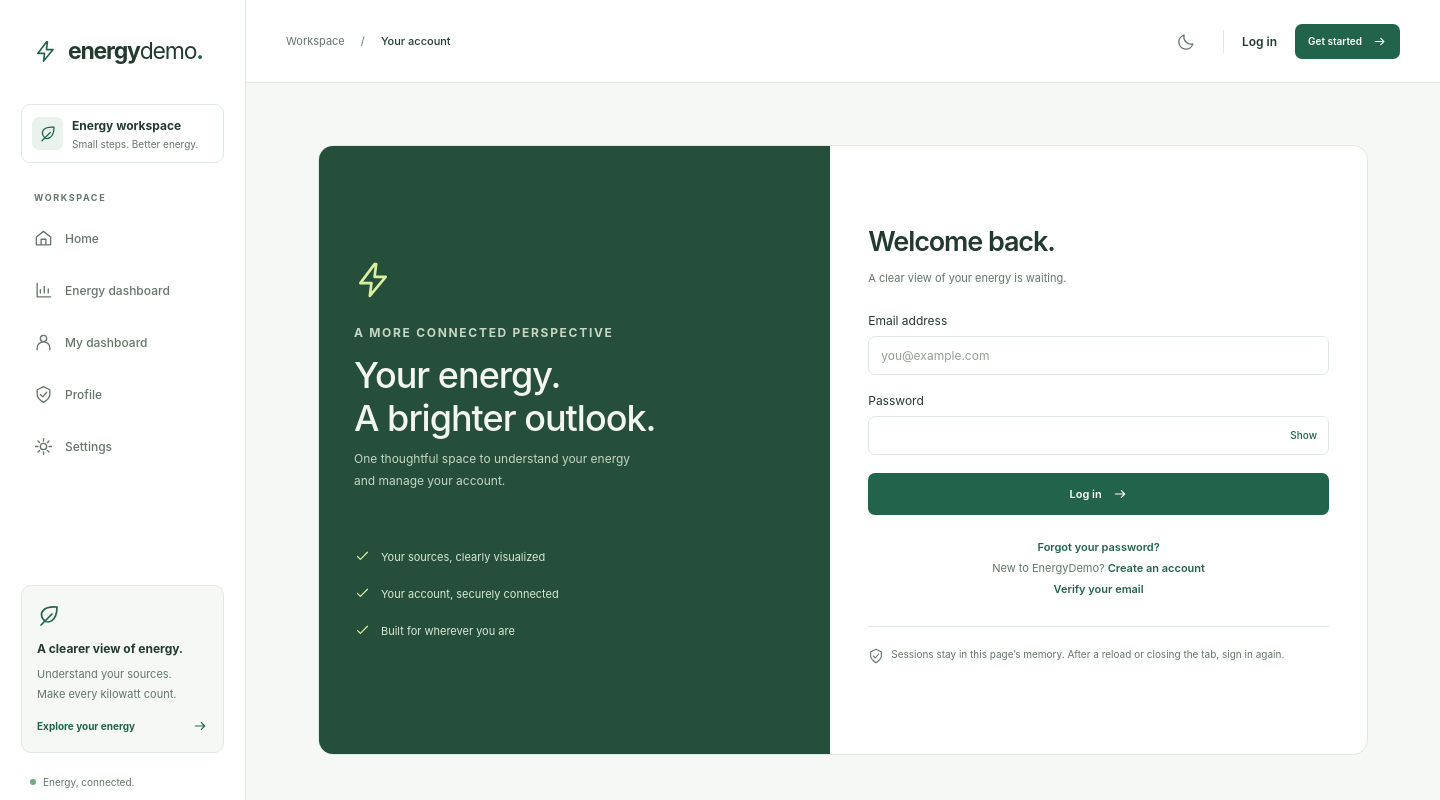
Cognito forms › handles authenticator challenges before granting access
Type "reader@example.invalid" into the field labelled "Email address".
click(1099, 356); type("reader@example.invalid")  # box [868,336,1329,375]
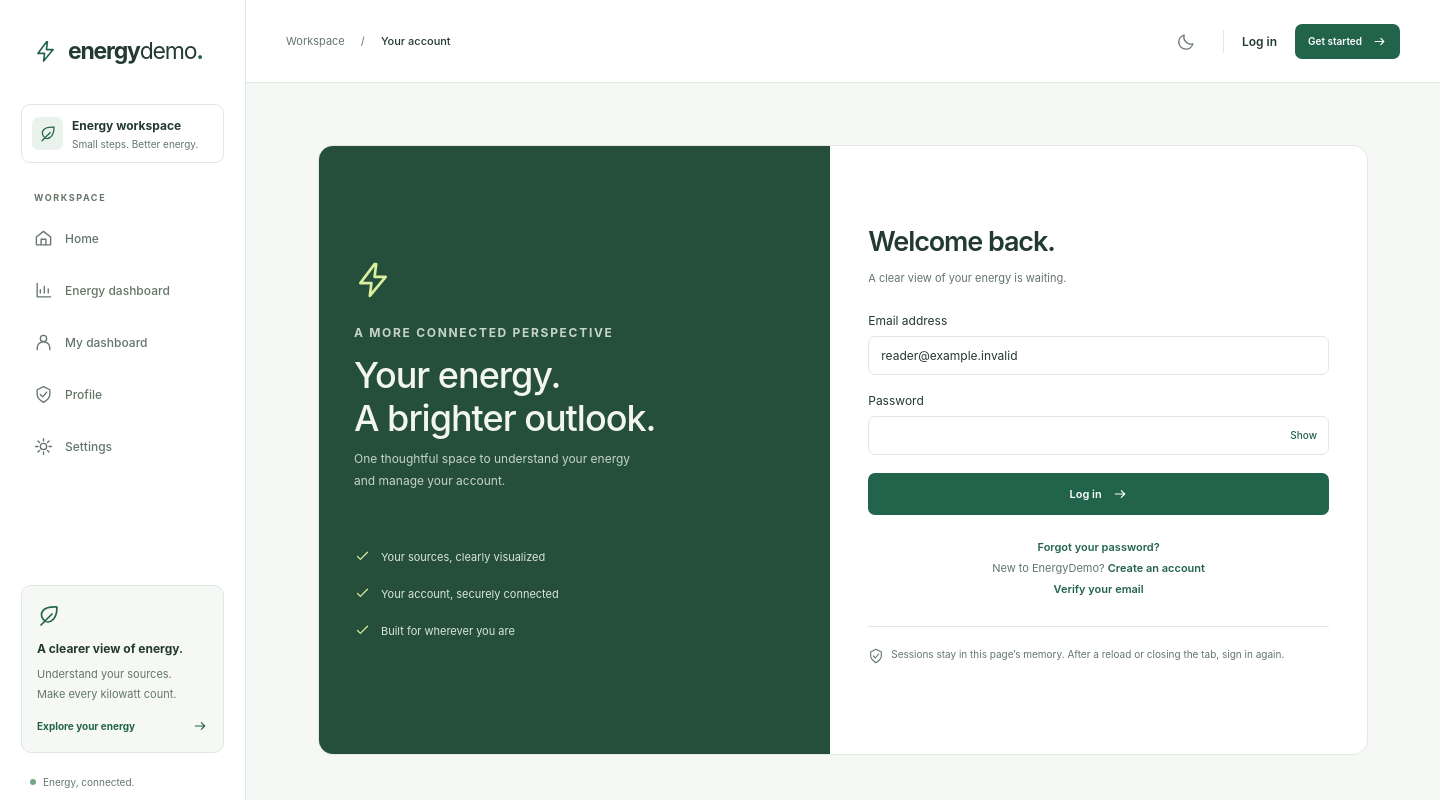
Type "Valid-Test-1234" into the password field labelled "Password".
click(1099, 436); type("Valid-Test-1234")  # box [868,416,1329,455]
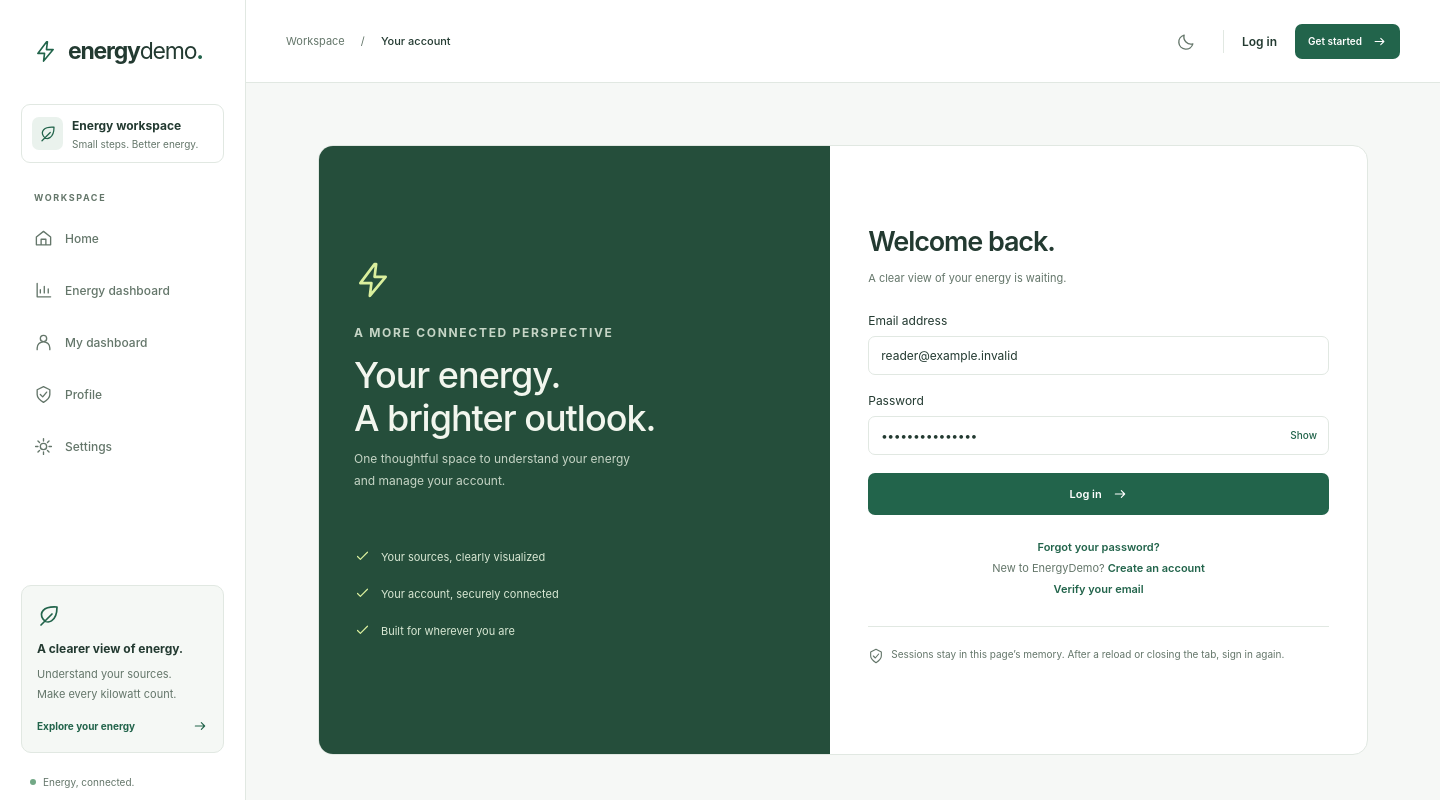
Click the button "Log in".
click(1099, 494)  # box [868,473,1329,515]
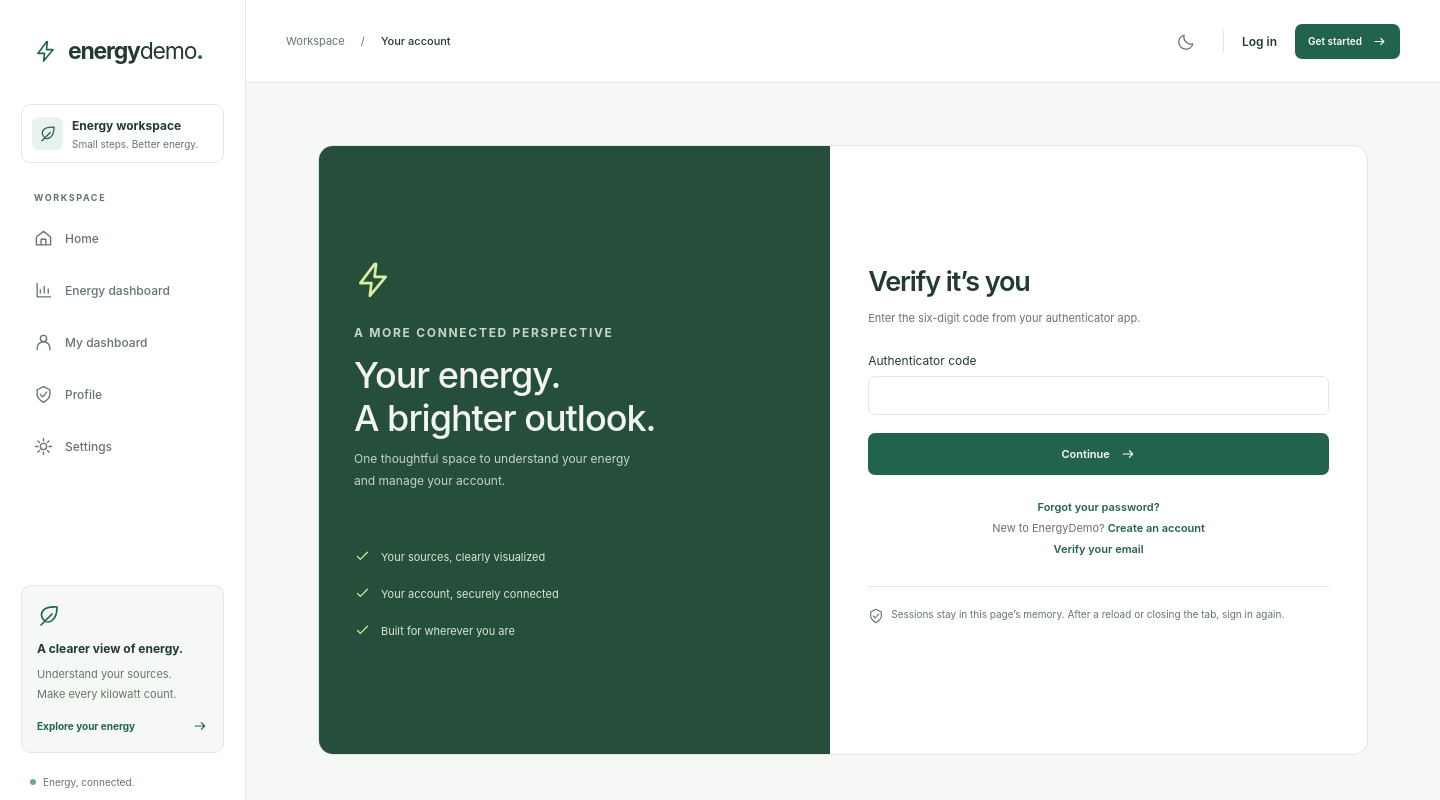
Expected: the field labelled "Authenticator code" is shown
Type "123456" into the field labelled "Authenticator code".
click(1099, 396); type("123456")  # box [868,376,1329,415]
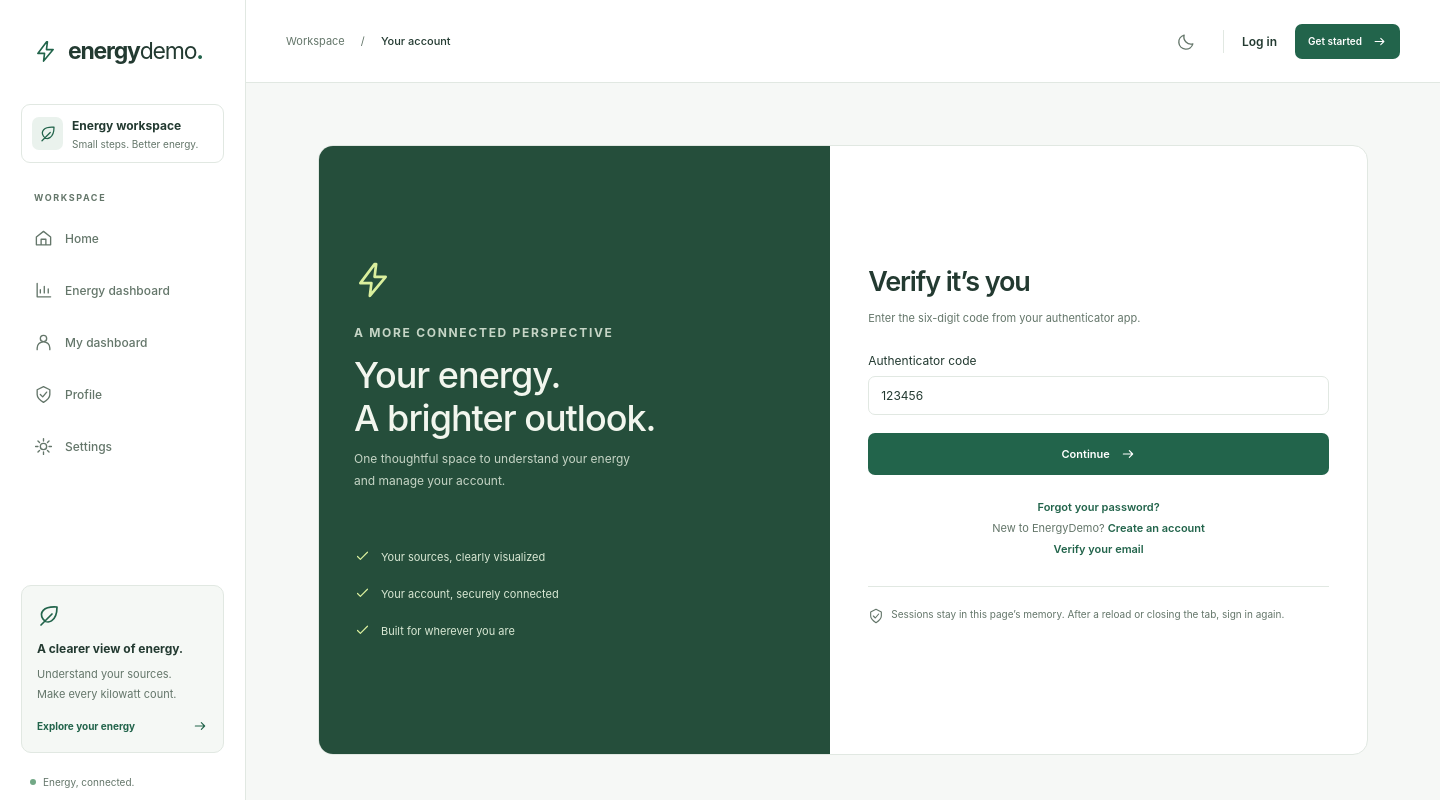
Click the button "Continue".
click(1099, 454)  # box [868,433,1329,475]
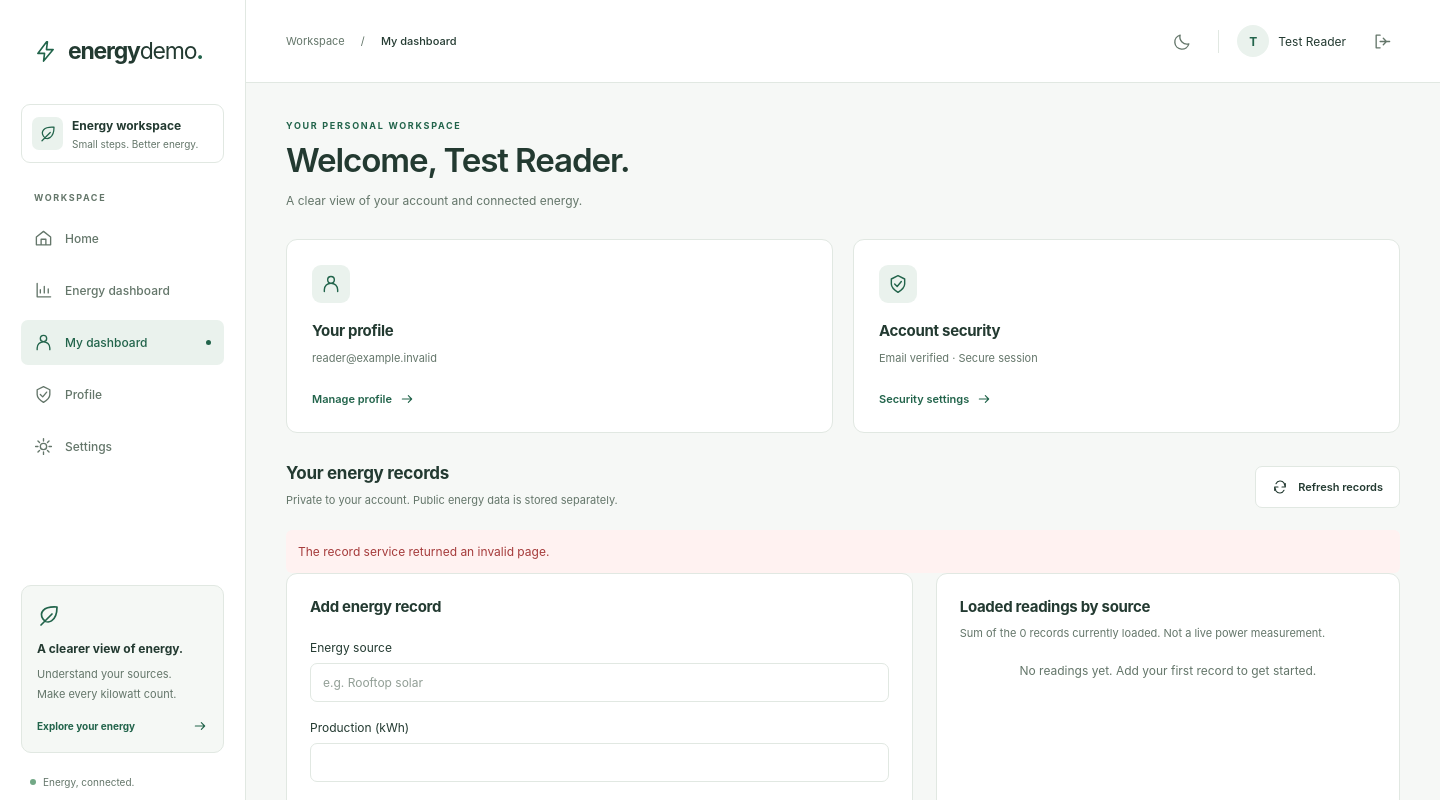
Expected: the heading "Welcome, Test Reader." is shown, [286,141,629,181]
